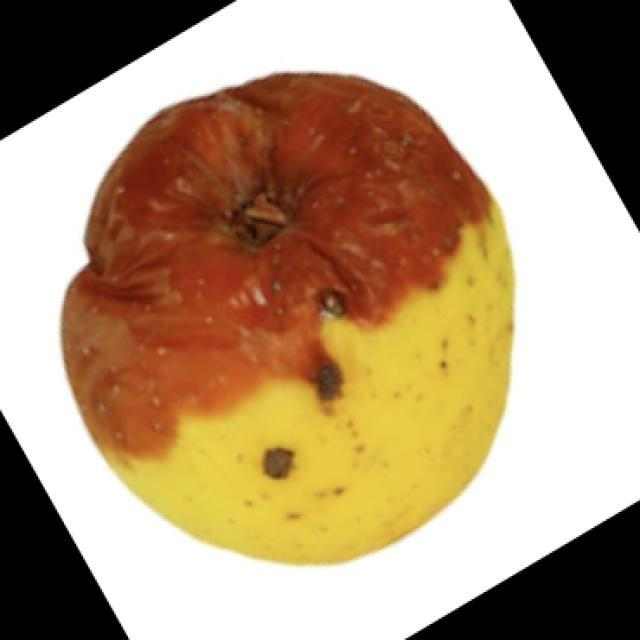Rotten: (48, 52, 520, 553)
